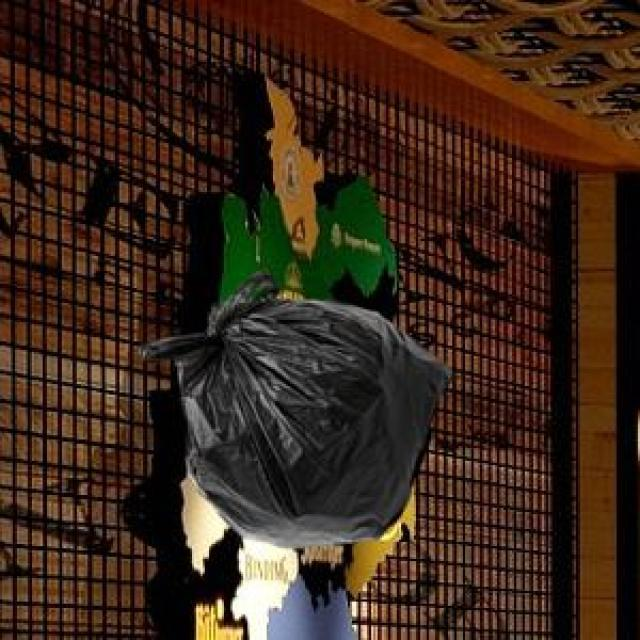Vinyl: (148, 300, 444, 547)
